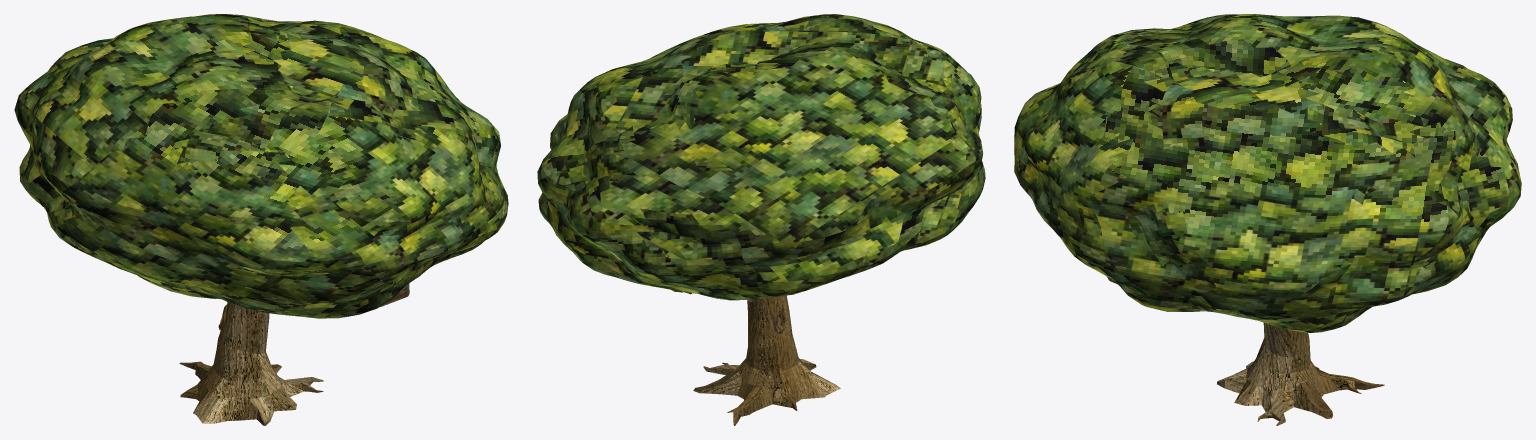
Rendered from town_square_tree.gltf.
3 views of the same model, side by side, from view 1: azimuth 30°, elevation 25°; view 2: azimuth 150°, elevation 25°; view 3: azimuth 270°, elevation 25° (orthographic). The views are drawn at different scales.
Parts seen in each view (by area): view 1: Leaves, Trunk-col; view 2: Leaves, Trunk-col; view 3: Leaves, Trunk-col.
Boxes of the visible parts, x1,y1,x2,y2 form: Leaves: (14,14,508,318); Trunk-col: (179,302,323,425); Leaves: (537,14,985,300); Trunk-col: (693,295,840,425); Leaves: (1014,14,1521,332); Trunk-col: (1217,323,1384,425).
Bounding box in the file's own units: 26.04 × 20.23 × 27.36.
Materials: 2 (2 with a texture image).
